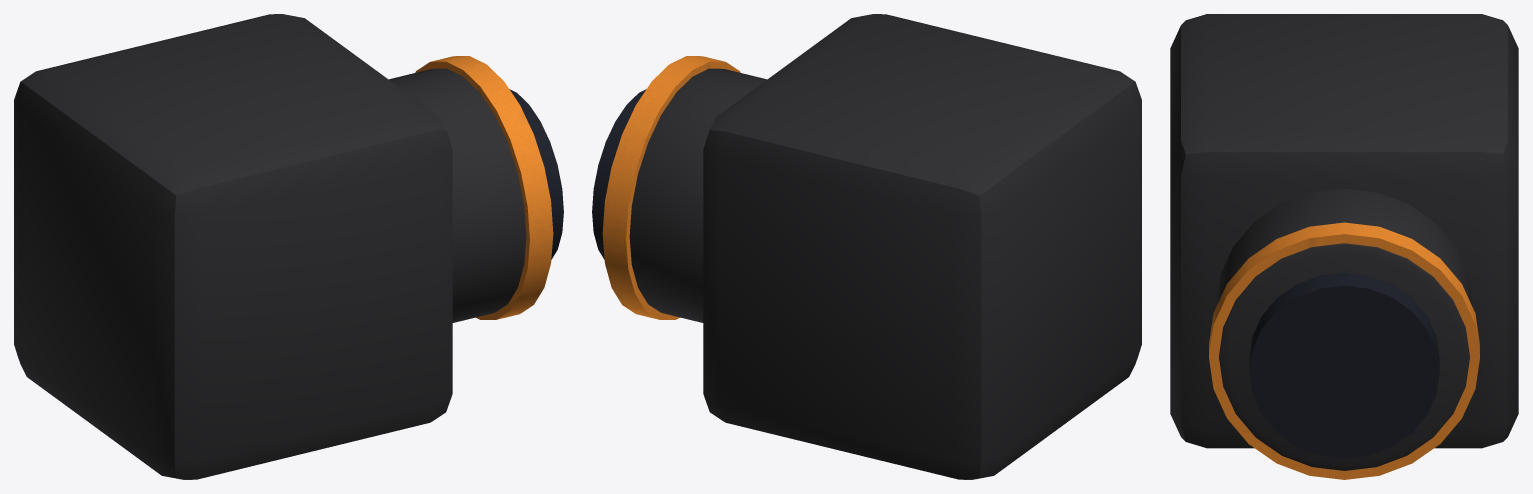
File: SM_FPVDrone_Camera.fbx
3 views of the same model, side by side, from view 1: azimuth 30°, elevation 25°; view 2: azimuth 150°, elevation 25°; view 3: azimuth 270°, elevation 25° (orthographic).
Visible parts, largest first — view 1: SM_FPVDrone_Camera; view 2: SM_FPVDrone_Camera; view 3: SM_FPVDrone_Camera.
Boxes of the visible parts, bbox=[...] form: SM_FPVDrone_Camera: bbox=[14, 14, 563, 479]; SM_FPVDrone_Camera: bbox=[592, 14, 1141, 479]; SM_FPVDrone_Camera: bbox=[1170, 14, 1518, 479].
Size of the model in its own units: 0.0277 by 0.019 by 0.019.
